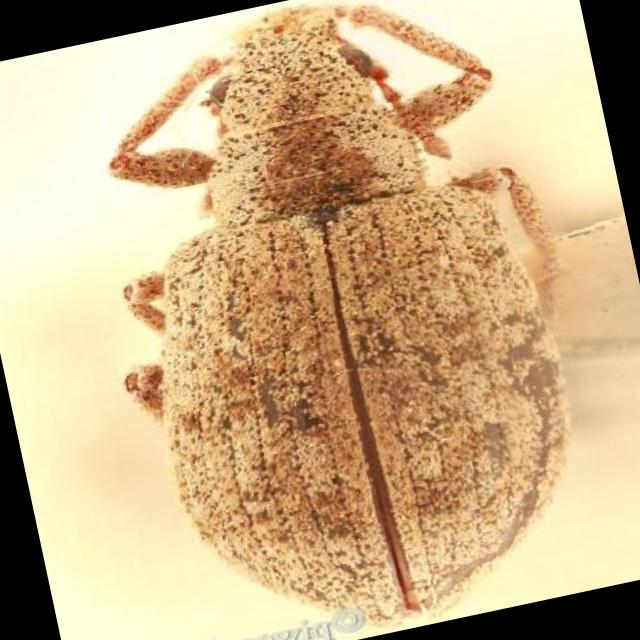rice-bug: (53, 0, 624, 640)
